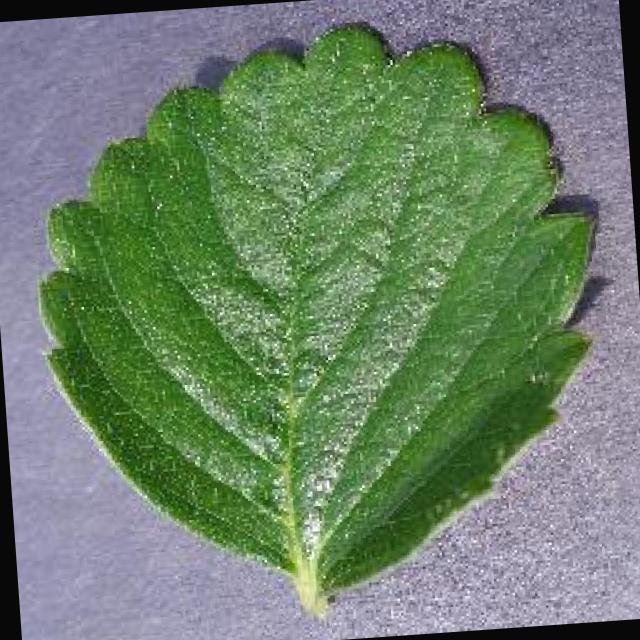healthy: (40, 27, 586, 613)
